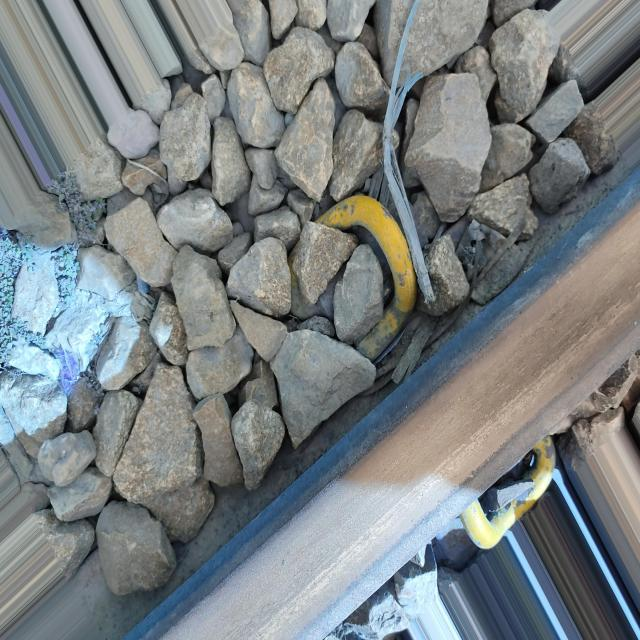Good Fasteners: (432, 436, 555, 570), (316, 195, 417, 358)
